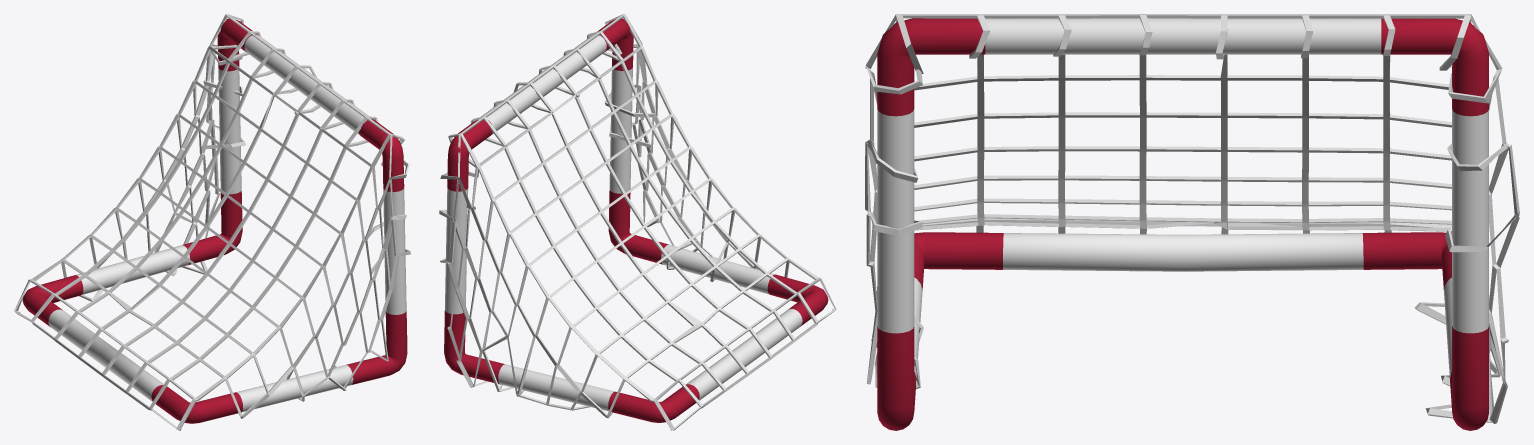
File: soccer_goal.glb
3 views of the same model, side by side, from view 1: azimuth 30°, elevation 25°; view 2: azimuth 150°, elevation 25°; view 3: azimuth 270°, elevation 25° (orthographic). The views are drawn at different scales.
Visible parts, largest first — view 1: Net, Tube; view 2: Net, Tube; view 3: Tube, Net.
Part boxes in pixels (bbox=[...]): Net: bbox=[14, 14, 410, 430]; Tube: bbox=[22, 18, 407, 423]; Net: bbox=[439, 14, 836, 430]; Tube: bbox=[444, 18, 828, 422]; Tube: bbox=[877, 18, 1488, 430]; Net: bbox=[865, 14, 1519, 423].
Size of the model in its own units: 426 by 422 by 583.
